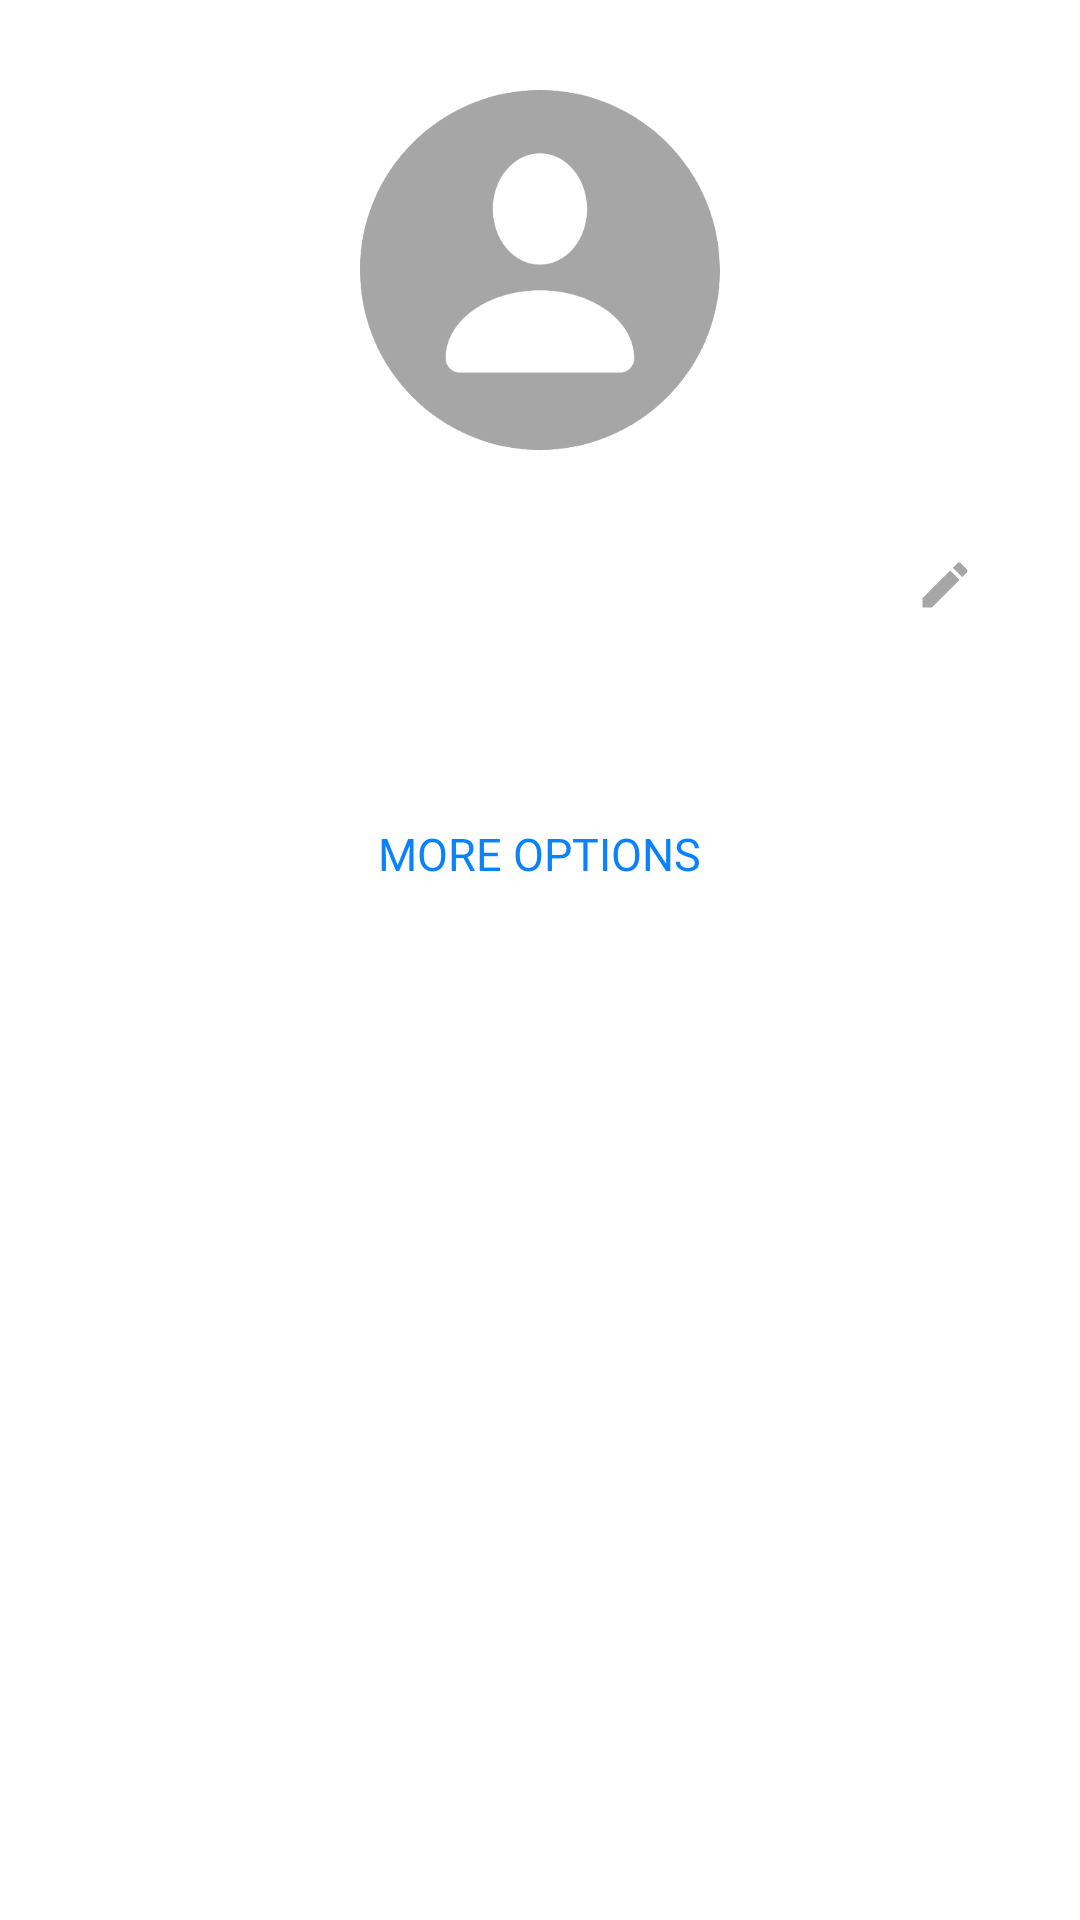

Point at icon controls on the screen. Image size 1080*1920, points as (x,y).
edit: (945,585)
Profile Picture: (540,270)
